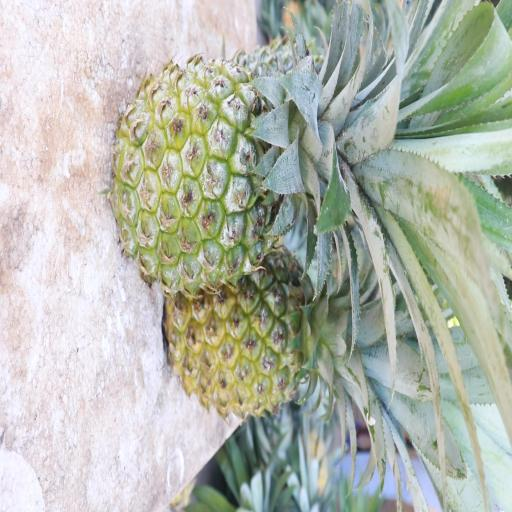------------------------------: (108, 48, 381, 304)
Pineapple - v8 v1: (160, 232, 396, 426)
